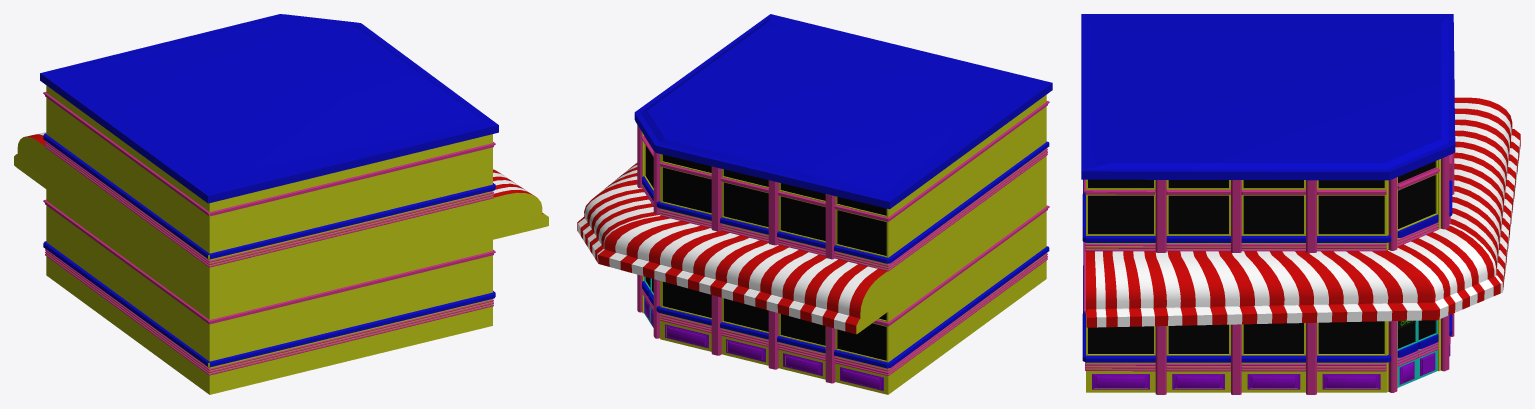
Rendered from Cafeee.fbx.
3 renders of one model, left to right at view 1: azimuth 30°, elevation 25°; view 2: azimuth 150°, elevation 25°; view 3: azimuth 270°, elevation 25°, orthographic. The views are drawn at different scales.
Parts seen in each view (by area): view 1: Cube.018 (×3), Cube.015 (×3); view 2: Cube.018 (×4), Cube.015 (×7); view 3: Cube.018 (×4), Cube.015 (×8).
Boxes of the visible parts, left/top/right/bottom form: Cube.018 (×3): left=40, top=14, right=498, bottom=267; Cube.015 (×3): left=14, top=136, right=548, bottom=394; Cube.018 (×4): left=634, top=14, right=1052, bottom=271; Cube.015 (×7): left=577, top=156, right=1049, bottom=394; Cube.018 (×4): left=1081, top=14, right=1455, bottom=252; Cube.015 (×8): left=1082, top=97, right=1520, bottom=394.
Size of the model in its own units: 10.91 by 6.21 by 10.91.
